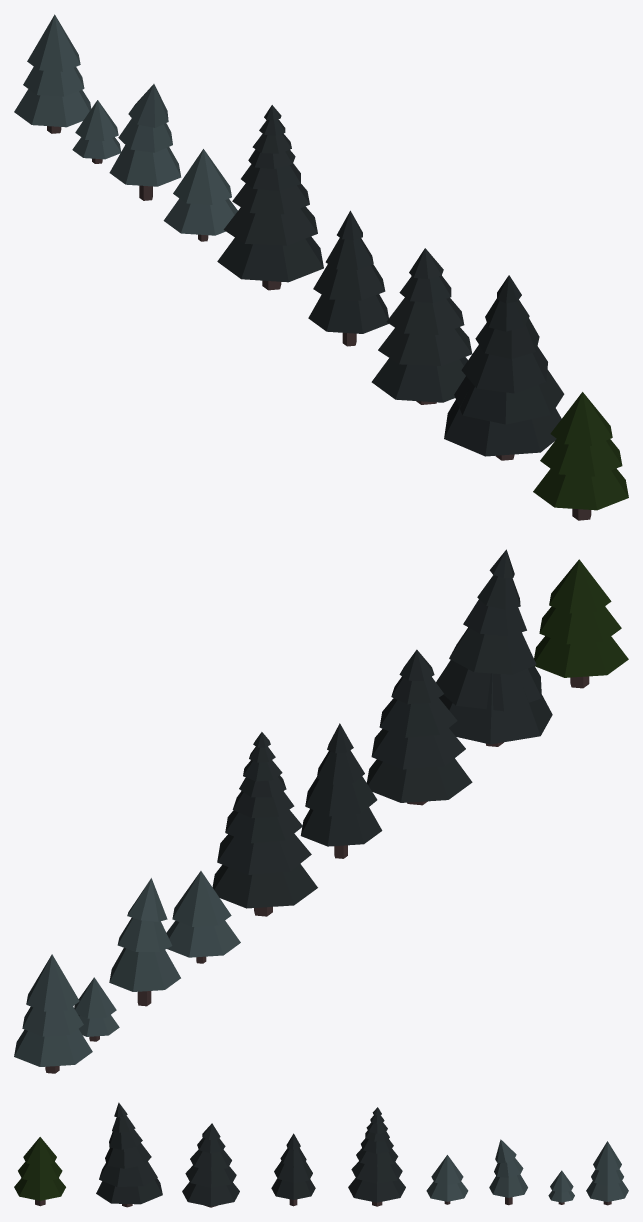
Rendered from trees.fbx.
The picture shows the model from 3 angles, top to bottom: view 1: azimuth 30°, elevation 25°; view 2: azimuth 150°, elevation 25°; view 3: azimuth 270°, elevation 25°; orthographic projection. The views are drawn at different scales.
Visible parts, largest first — view 1: Cylinder002, Cylinder004, Cylinder001, Cylinder009, Cylinder003, Cylinder008, Cylinder006, Cylinder005, Cylinder007; view 2: Cylinder002, Cylinder004, Cylinder001, Cylinder009, Cylinder003, Cylinder008, Cylinder006, Cylinder005, Cylinder007; view 3: Cylinder002, Cylinder004, Cylinder001, Cylinder009, Cylinder003, Cylinder008, Cylinder006, Cylinder005, Cylinder007.
Part boxes in pixels (x1=…): Cylinder002: x1=444, y1=275, x2=564, y2=460; Cylinder004: x1=217, y1=105, x2=323, y2=290; Cylinder001: x1=371, y1=248, x2=472, y2=404; Cylinder009: x1=533, y1=392, x2=628, y2=520; Cylinder003: x1=308, y1=210, x2=388, y2=346; Cylinder008: x1=14, y1=14, x2=91, y2=133; Cylinder006: x1=109, y1=84, x2=181, y2=200; Cylinder005: x1=163, y1=149, x2=237, y2=241; Cylinder007: x1=72, y1=100, x2=121, y2=163; Cylinder002: x1=436, y1=549, x2=552, y2=746; Cylinder004: x1=212, y1=732, x2=317, y2=916; Cylinder001: x1=366, y1=649, x2=472, y2=805; Cylinder009: x1=534, y1=559, x2=628, y2=688; Cylinder003: x1=300, y1=723, x2=382, y2=858; Cylinder008: x1=14, y1=954, x2=92, y2=1073; Cylinder006: x1=109, y1=878, x2=180, y2=1006; Cylinder005: x1=166, y1=871, x2=240, y2=963; Cylinder007: x1=74, y1=977, x2=119, y2=1041; Cylinder002: x1=96, y1=1102, x2=162, y2=1207; Cylinder004: x1=348, y1=1107, x2=405, y2=1206; Cylinder001: x1=182, y1=1123, x2=239, y2=1207; Cylinder009: x1=14, y1=1137, x2=65, y2=1206; Cylinder003: x1=271, y1=1133, x2=315, y2=1206; Cylinder008: x1=586, y1=1141, x2=628, y2=1205; Cylinder006: x1=489, y1=1139, x2=527, y2=1205; Cylinder005: x1=426, y1=1155, x2=468, y2=1204; Cylinder007: x1=548, y1=1170, x2=574, y2=1204.
Bounding box in the file's own units: 21.91 × 36.43 × 200.
1 material, 1 textured.
